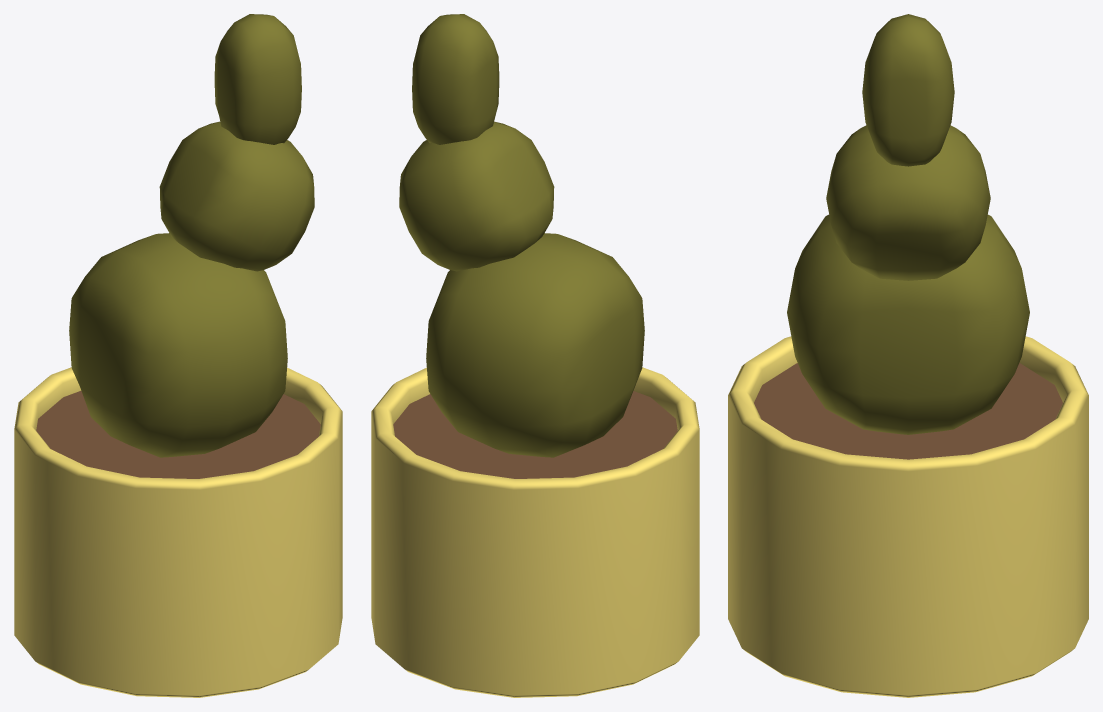
Rendered from Cactus_11.glb.
3 renders of one model, left to right at view 1: azimuth 30°, elevation 25°; view 2: azimuth 150°, elevation 25°; view 3: azimuth 270°, elevation 25°, orthographic. The views are drawn at different scales.
Parts seen in each view (by area): view 1: Cactus_11; view 2: Cactus_11; view 3: Cactus_11.
Boxes of the visible parts, <box> form: Cactus_11: <box>14,14,342,697</box>; Cactus_11: <box>371,14,699,697</box>; Cactus_11: <box>728,14,1088,697</box>.
Size of the model in its own units: 0.2074 by 0.4114 by 0.2074.
Materials: 1 (1 with a texture image).
